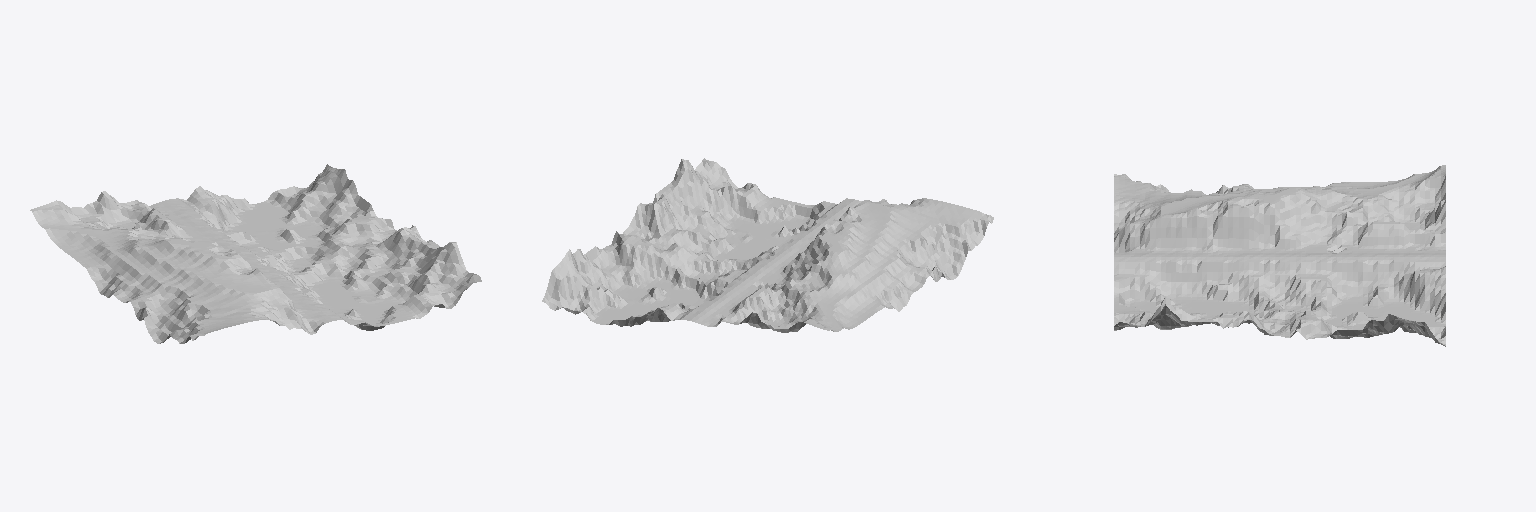
3 views of the same model, side by side, from view 1: azimuth 30°, elevation 25°; view 2: azimuth 150°, elevation 25°; view 3: azimuth 270°, elevation 25° (orthographic).
Parts seen in each view (by area): view 1: CD2; view 2: CD2; view 3: CD2.
Boxes of the visible parts, <box> form: CD2: <box>30,164,481,343</box>; CD2: <box>542,158,993,332</box>; CD2: <box>1114,165,1445,346</box>.
Size of the model in its own units: 420 by 80 by 420.